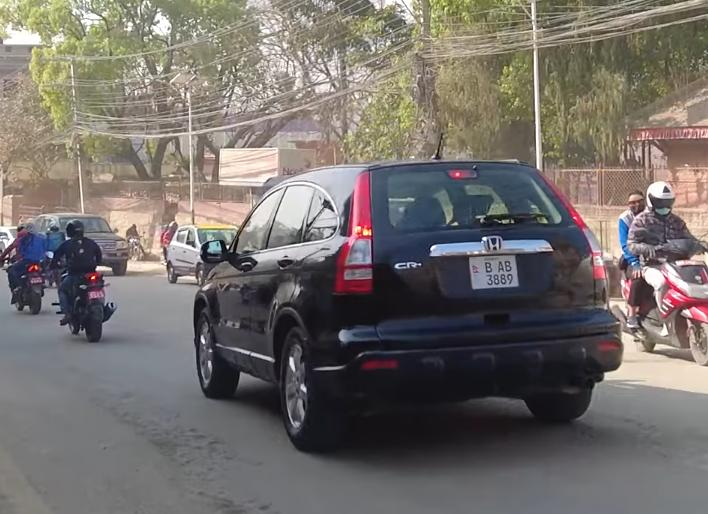bike: (45, 250, 116, 345), (1, 245, 47, 316)
car: (174, 157, 634, 441)
scooter: (613, 235, 708, 368)
taxi: (164, 224, 248, 288)
